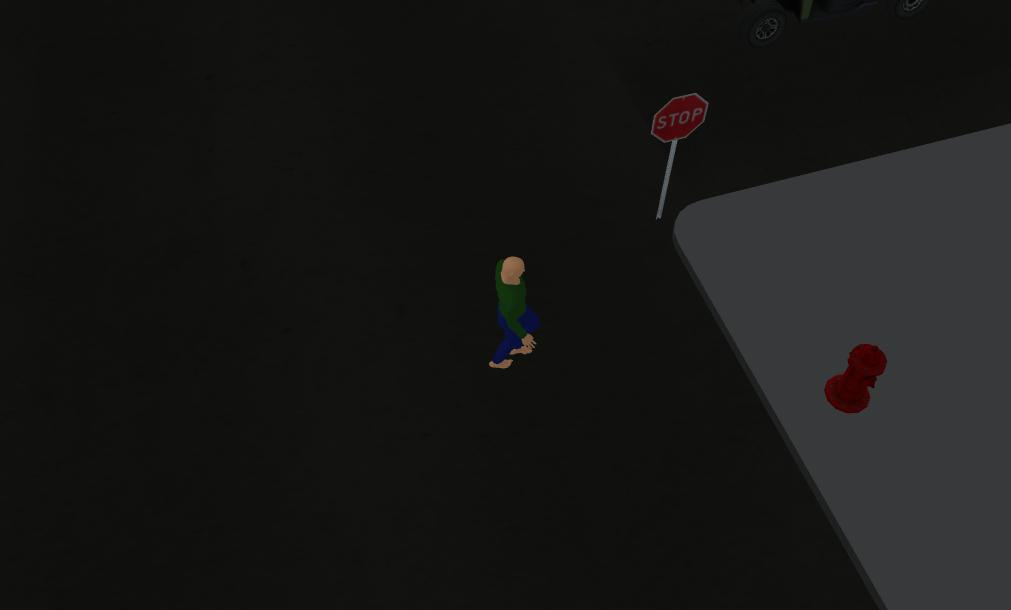fire hydrant: (815, 325, 893, 425)
human: (475, 246, 560, 388)
street sign: (635, 82, 727, 230)
